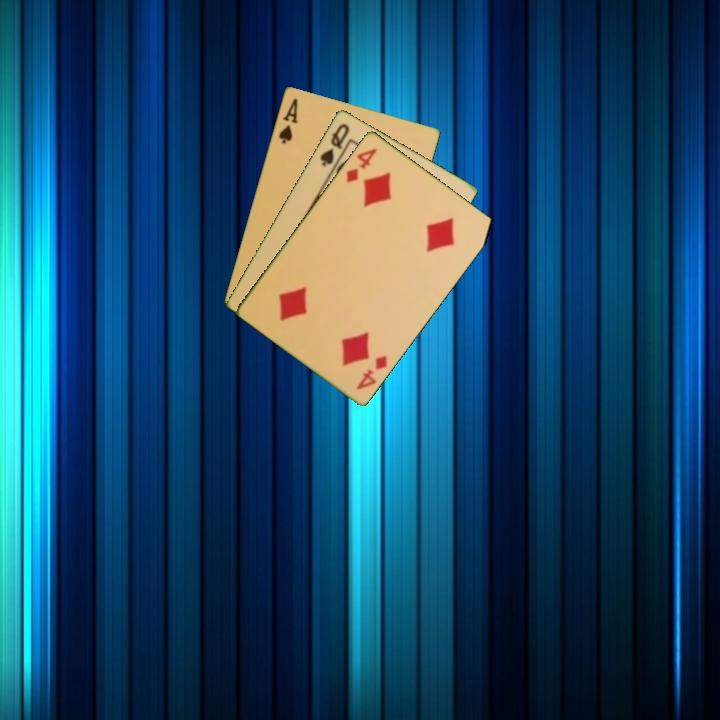4d: (352, 351, 390, 393), (343, 144, 380, 185)
As: (275, 94, 300, 146)
Qs: (316, 119, 352, 169)
